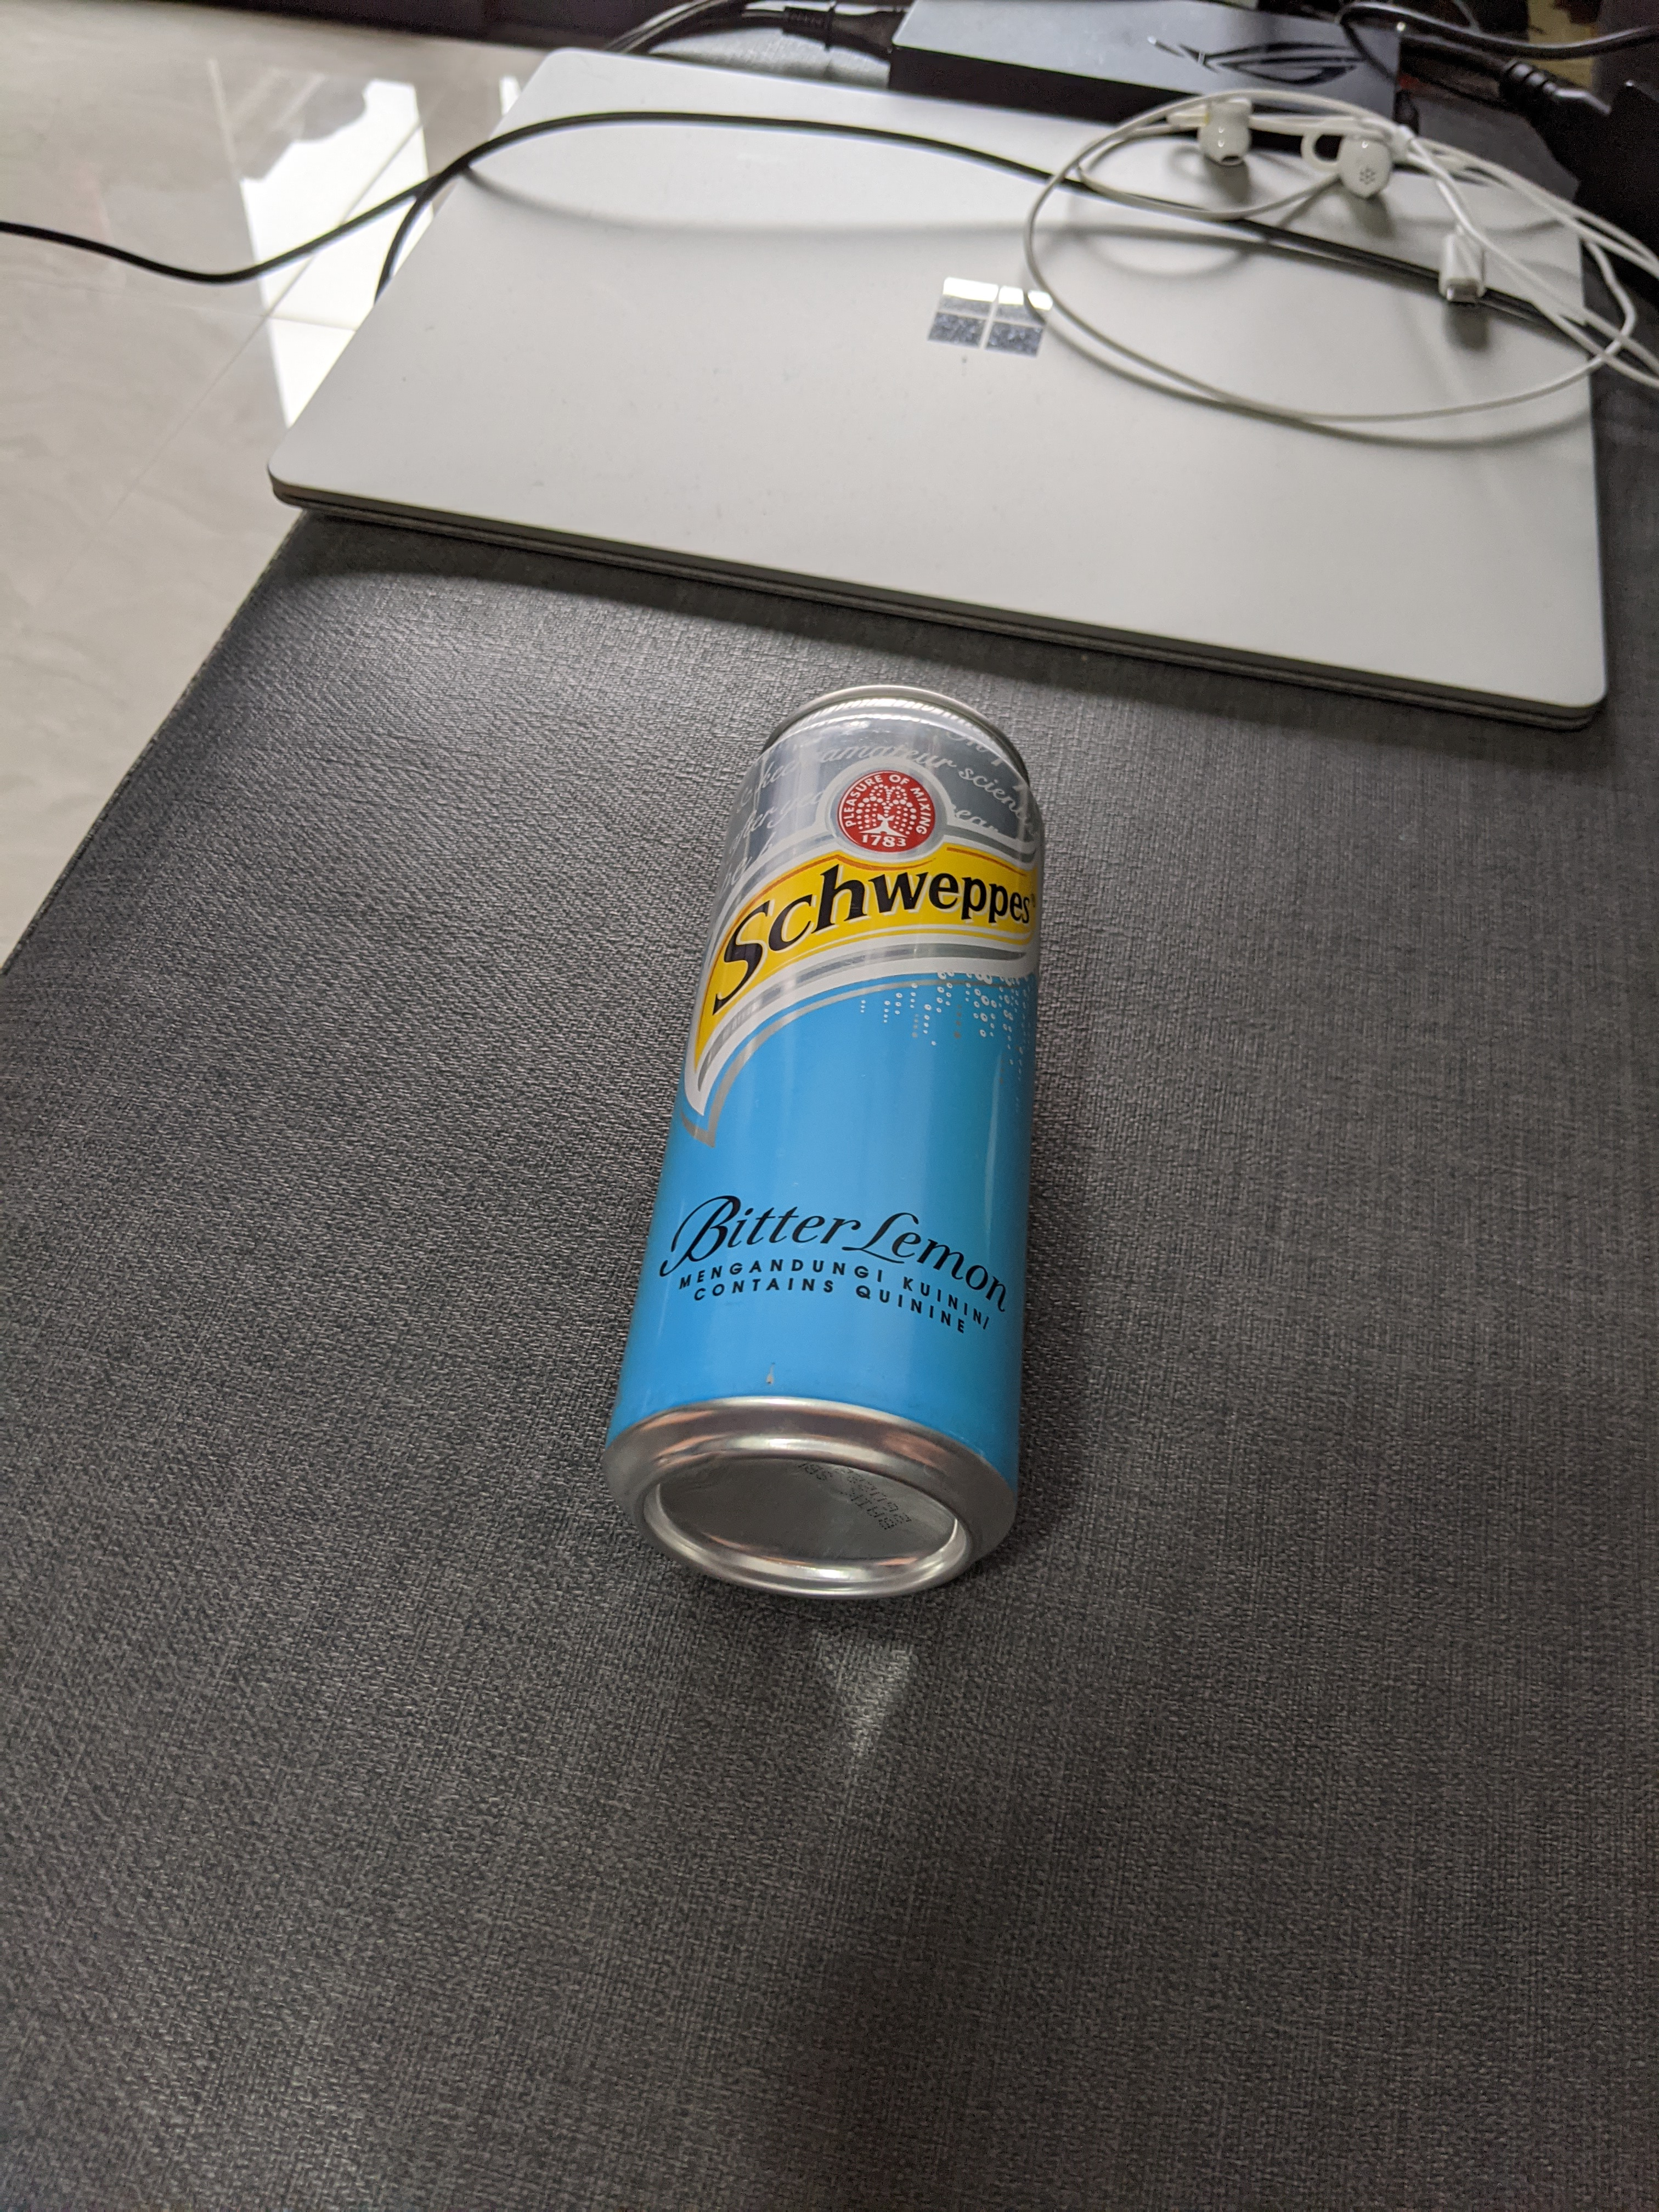schweppes drink can bitter lemon: (561, 641, 1091, 1651)
